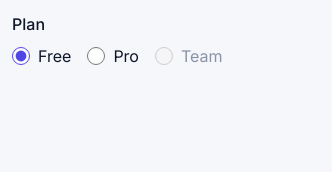
choices › RadioGroup is a named group with one choice, reported by value
The width and height of the screenshot is (332, 172).
Click the radio button labelled "Pro": (96, 56) [87,47,105,65]
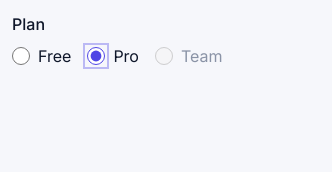
Expected: the element "Plan" is shown, [12,14,222,66]
Expected: the radio button labelled "Pro" is checked, [87,47,105,65]
Expected: the radio button labelled "Free" is not checked, [12,47,30,65]
